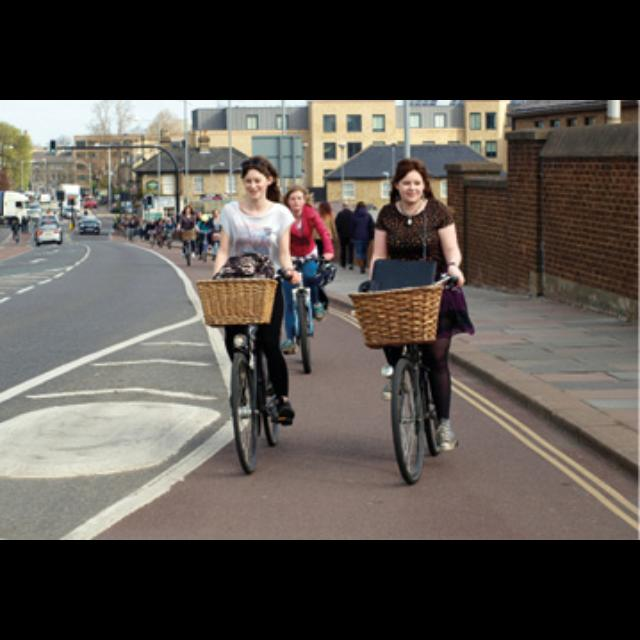Without Helmet: (388, 155, 432, 203), (233, 154, 274, 198)
